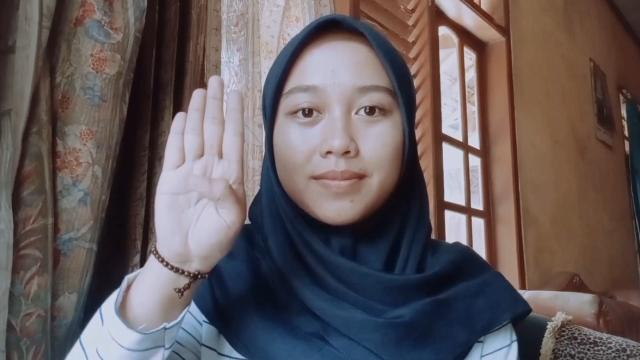B: (154, 74, 248, 262)
